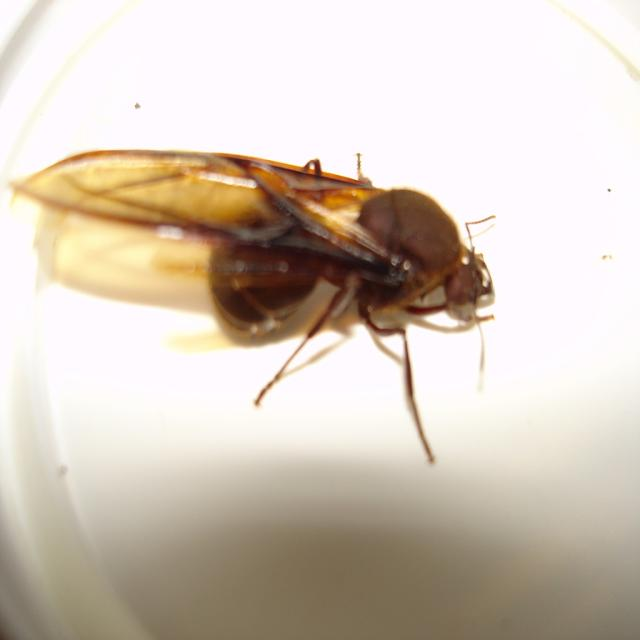Alive-Female-Alate: (8, 149, 496, 463)
